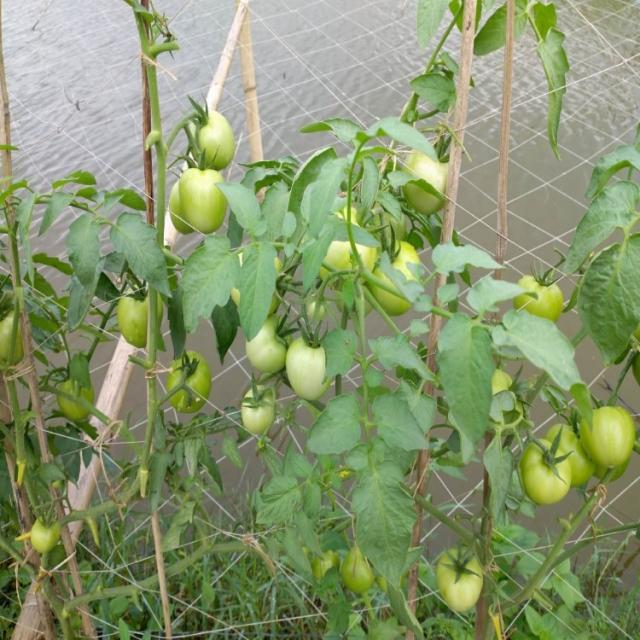tomato: (571, 389, 640, 488), (510, 429, 593, 511), (416, 543, 496, 624), (168, 171, 245, 250), (172, 96, 239, 170), (247, 311, 304, 387), (157, 348, 215, 422), (363, 234, 420, 306), (114, 285, 171, 356), (291, 323, 338, 405), (513, 265, 574, 321), (232, 382, 281, 444), (406, 135, 458, 193), (52, 370, 102, 429), (20, 516, 66, 557)
